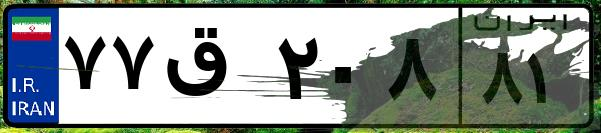0: (330, 28, 385, 110)
1: (525, 38, 570, 115)
2: (270, 28, 330, 110)
7: (57, 26, 110, 100), (110, 28, 158, 98)
8: (385, 28, 445, 110), (475, 38, 525, 113)
ق: (158, 20, 270, 120)
